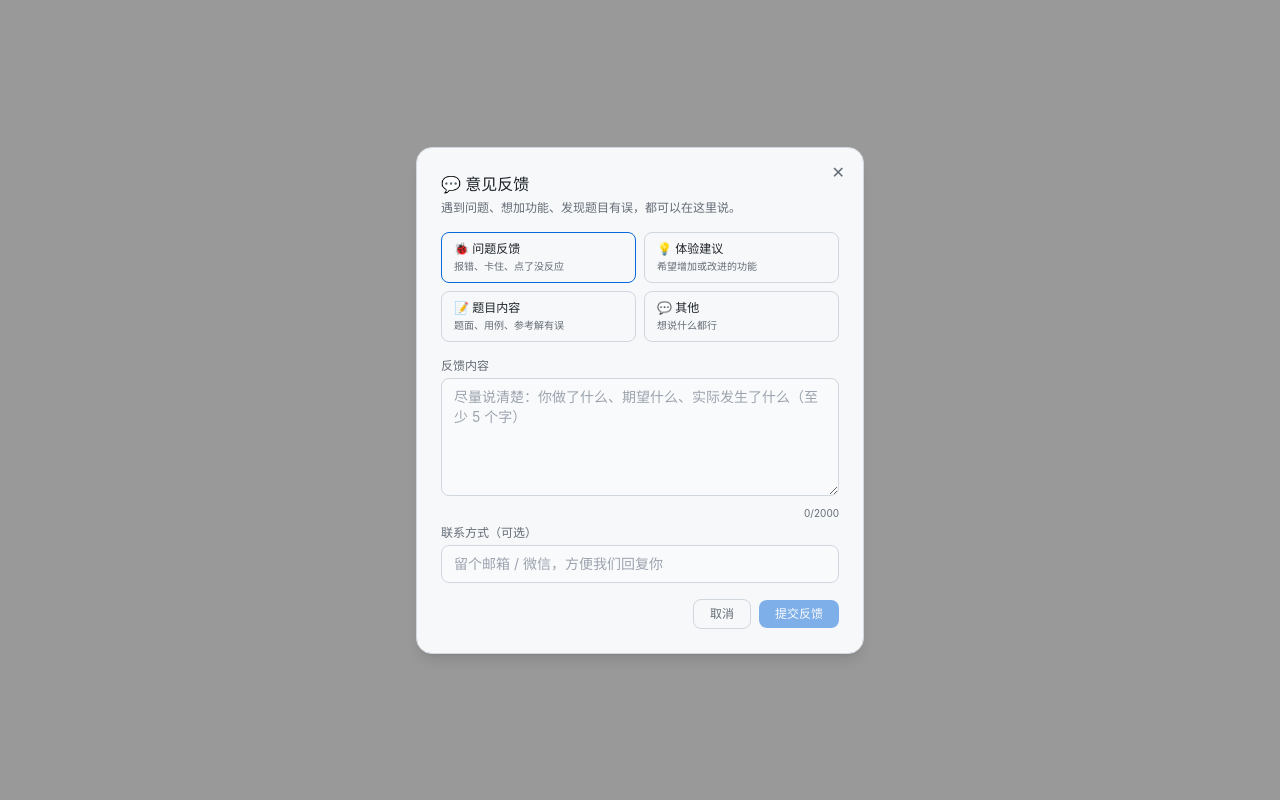
Test case: FeedbackModal › 429 限频：行内展示后端 detail、保留输入、不关闭弹窗
Type "这是一条会被限频的反馈" into the text box labelled "反馈内容" at (640, 436), box top-left (441, 378), bottom-right (839, 496)
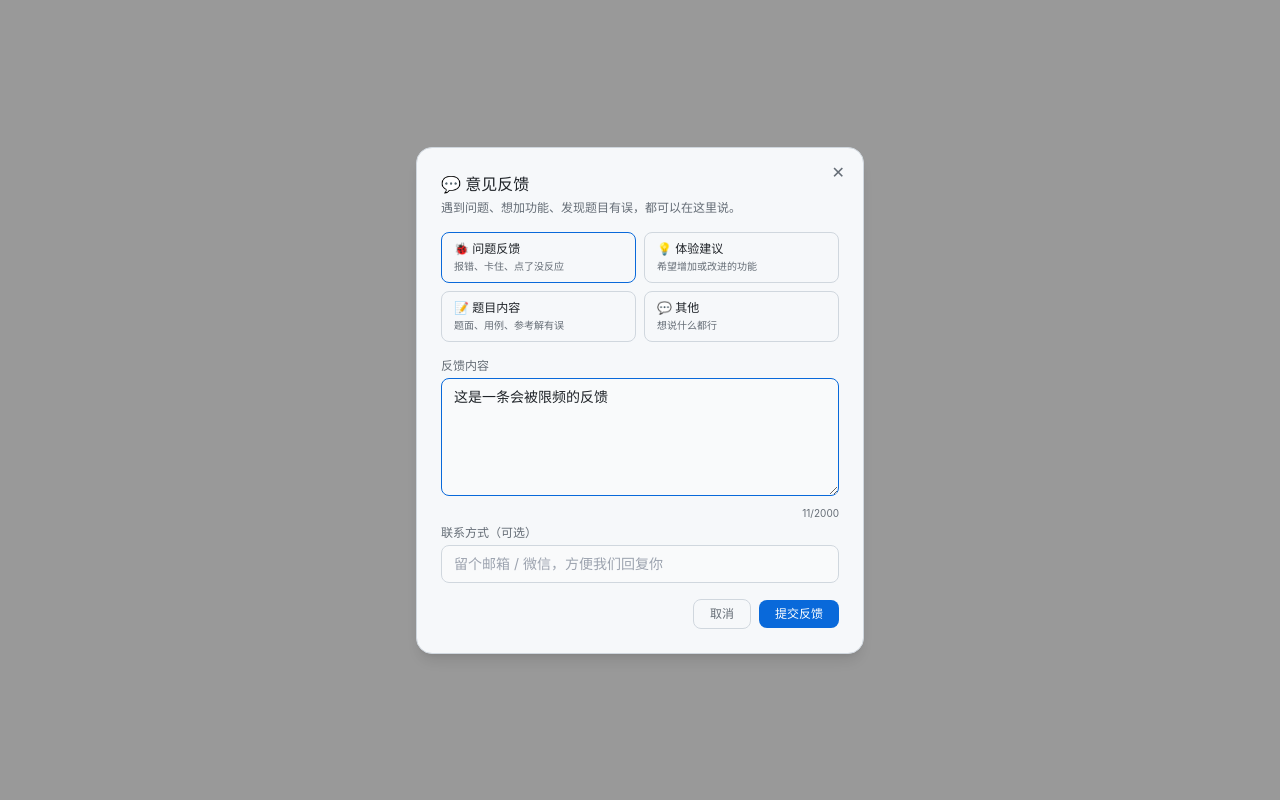
Click the button with test id "feedback-submit" at (799, 614), box top-left (759, 600), bottom-right (839, 628)
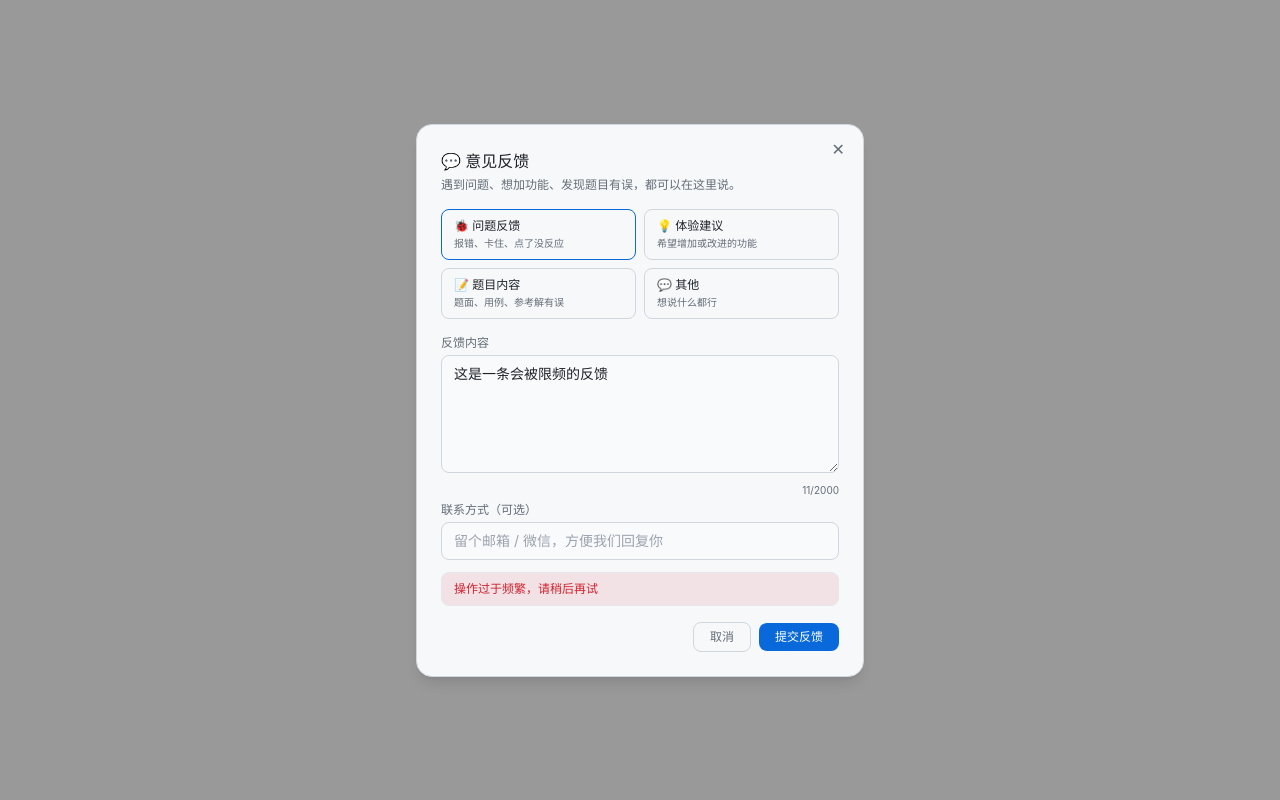
Result: the text with test id "feedback-error" shows "操作过于频繁" at top-left (454, 580), bottom-right (598, 596)
